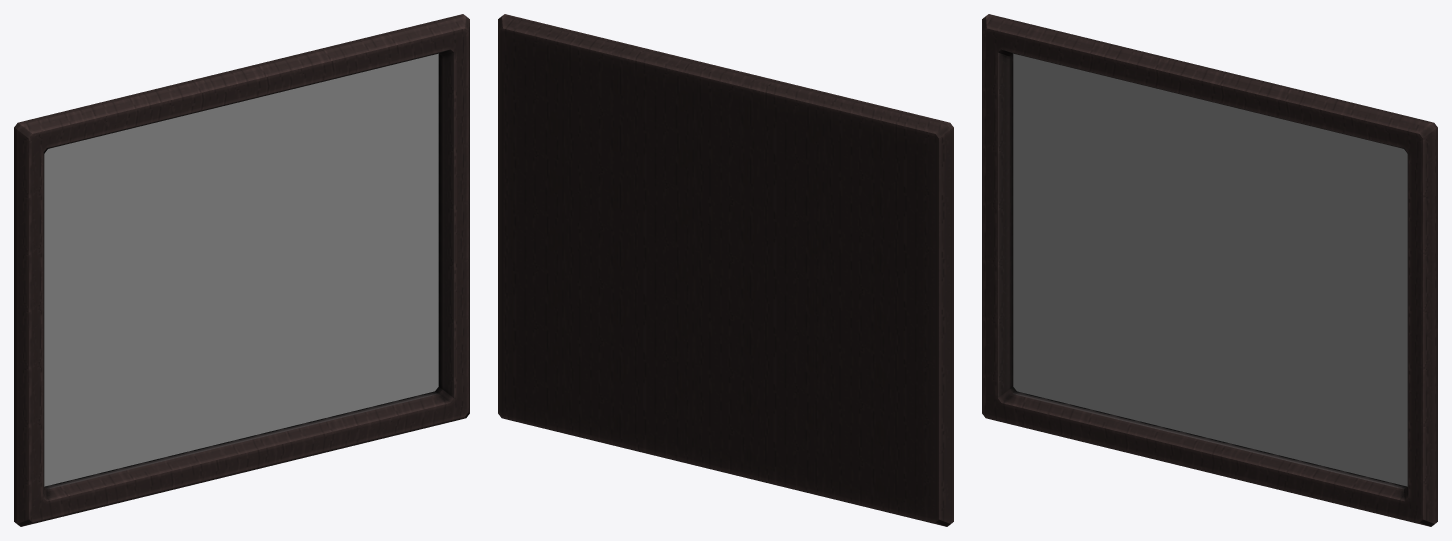
The model's file is Static_Frame_Box_Dark.FBX.
3 views of the same model, side by side, from view 1: azimuth 30°, elevation 25°; view 2: azimuth 150°, elevation 25°; view 3: azimuth 330°, elevation 25° (orthographic).
Parts seen in each view (by area): view 1: Object011, Object012; view 2: Object012; view 3: Object011, Object012.
Boxes of the visible parts, x1=… form: Object011: x1=44, y1=53, x2=438, y2=486; Object012: x1=14, y1=14, x2=469, y2=526; Object012: x1=498, y1=14, x2=953, y2=526; Object011: x1=1013, y1=53, x2=1407, y2=486; Object012: x1=982, y1=14, x2=1437, y2=526.
Bounding box in the file's own units: 118 × 99.84 × 6.13.
